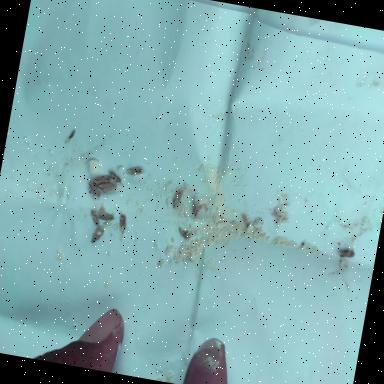pbw: (85, 176, 104, 198), (88, 201, 104, 227), (116, 210, 130, 234), (97, 180, 118, 195), (107, 170, 126, 186), (92, 225, 106, 245), (98, 208, 118, 222), (127, 166, 148, 179), (172, 188, 184, 210), (191, 191, 202, 213), (94, 174, 114, 186), (177, 227, 192, 240), (339, 248, 355, 260), (241, 215, 251, 229), (194, 204, 204, 218)
